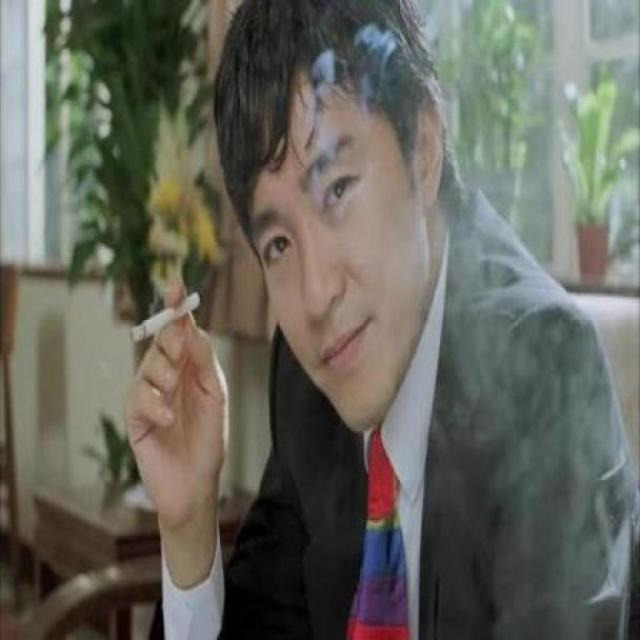rokok: (128, 287, 198, 351)
